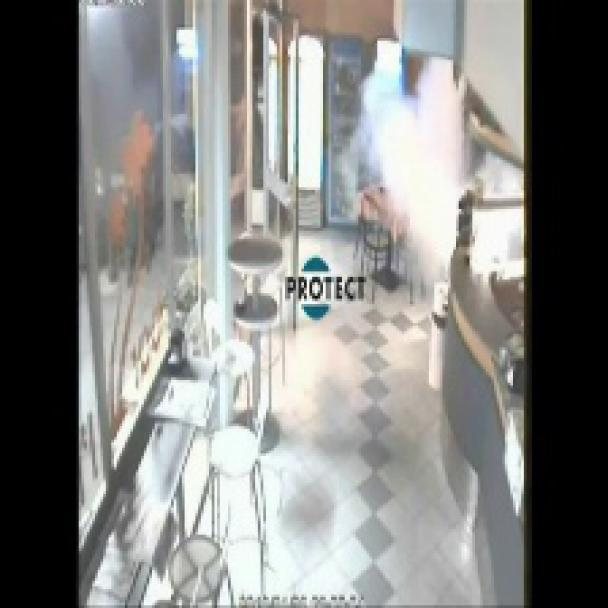smoke: (331, 42, 501, 294)
